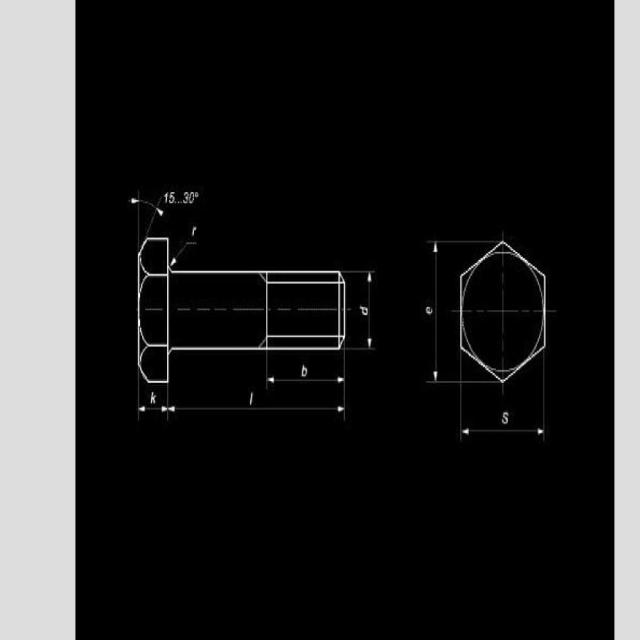marking_line: (166, 384, 346, 422), (425, 241, 459, 388), (457, 384, 545, 440), (264, 351, 347, 388), (346, 270, 376, 357), (131, 194, 164, 237), (138, 383, 168, 422), (170, 241, 196, 269)
numeric: (502, 410, 510, 425), (300, 363, 308, 377), (150, 390, 157, 405), (359, 306, 367, 317), (169, 190, 175, 204), (425, 305, 433, 315), (249, 391, 254, 405), (189, 191, 194, 205), (163, 192, 169, 203), (184, 192, 189, 204), (192, 226, 197, 238)
special_symbol: (195, 192, 199, 199)
